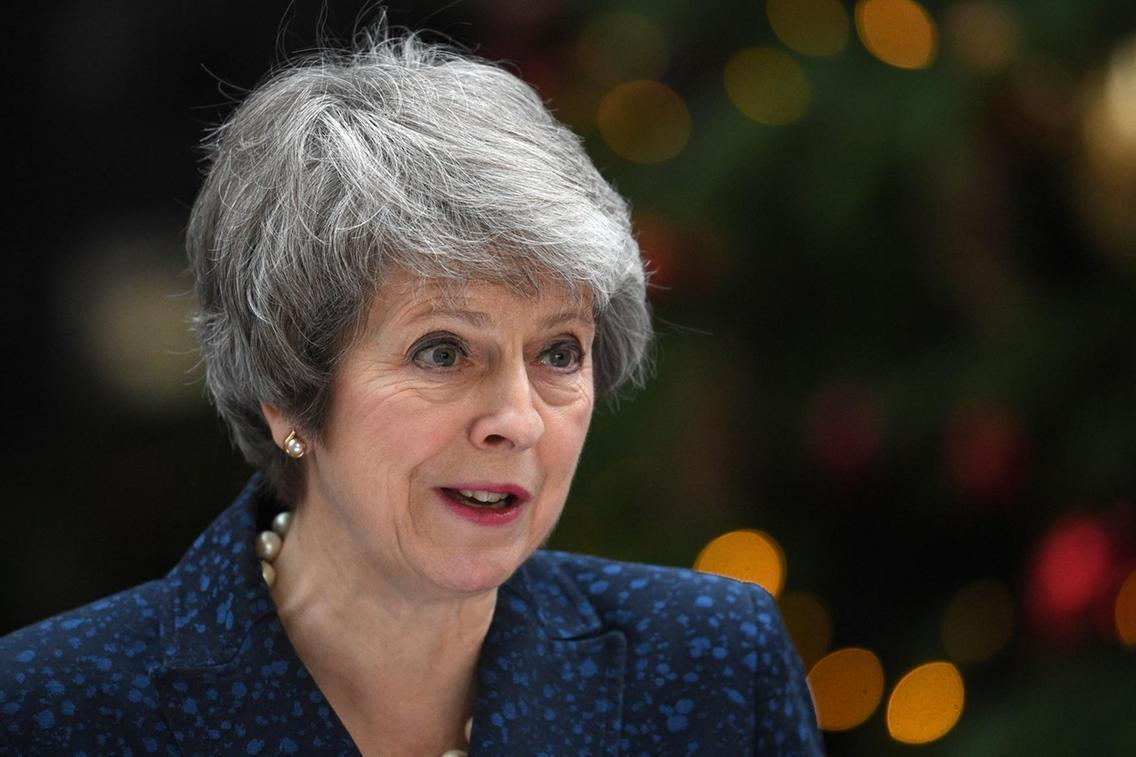Sober: (351, 264, 584, 584)
